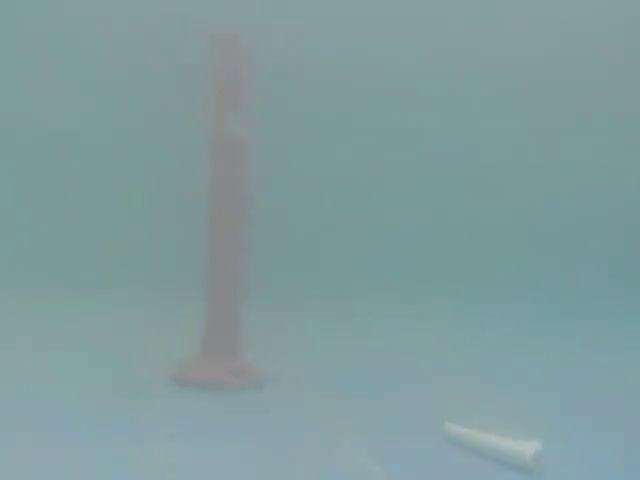flare: (161, 0, 279, 404)
